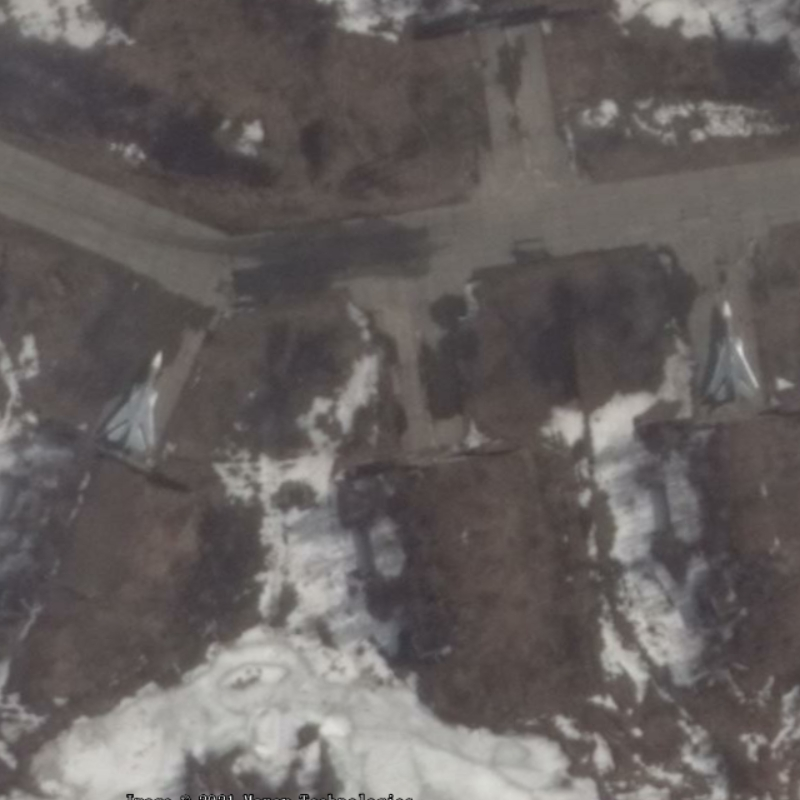A20: (103, 348, 166, 453), (705, 298, 762, 404)
